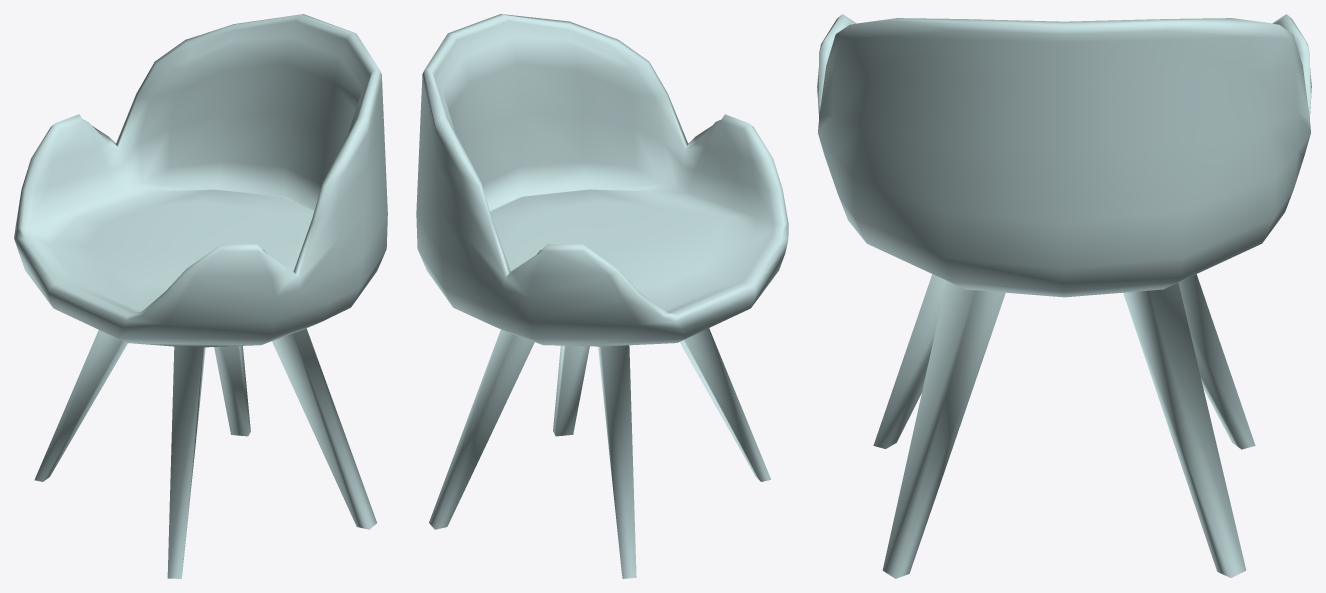
File: chair-LOD1.fbx
The picture shows the model from 3 angles, left to right: view 1: azimuth 30°, elevation 25°; view 2: azimuth 150°, elevation 25°; view 3: azimuth 270°, elevation 25°; orthographic projection. The views are drawn at different scales.
Parts seen in each view (by area): view 1: Chair LOD1; view 2: Chair LOD1; view 3: Chair LOD1.
Part boxes in pixels (<box>): Chair LOD1: <box>14,14,387,578</box>; Chair LOD1: <box>416,14,788,578</box>; Chair LOD1: <box>817,14,1311,578</box>.
Bounding box in the file's own units: 70.45 × 93.39 × 72.14.
